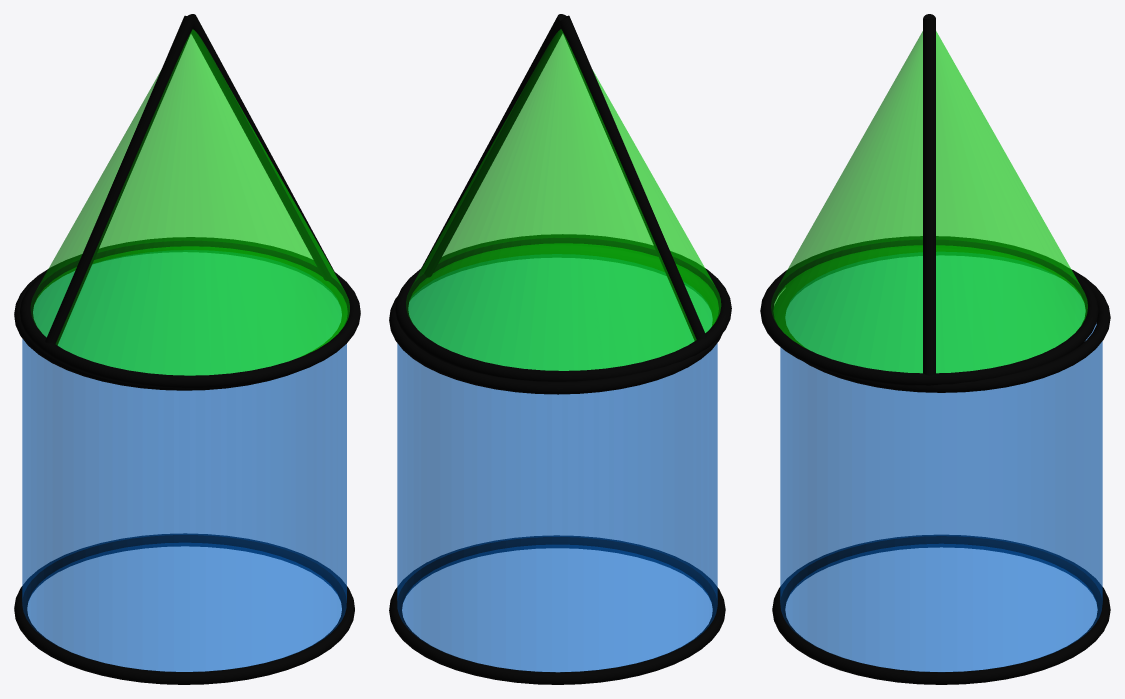
The model's file is coneoncylinder.fbx.
The picture shows the model from 3 angles, left to right: view 1: azimuth 30°, elevation 25°; view 2: azimuth 150°, elevation 25°; view 3: azimuth 270°, elevation 25°; orthographic projection.
Visible parts, largest first — view 1: ReferenceCylinder, ReferenceCone, BottomRing, BaseRing, SideLine_180, SideLine_0, TopRing; view 2: ReferenceCylinder, ReferenceCone, BottomRing, BaseRing, TopRing, SideLine_180, SideLine_0; view 3: ReferenceCylinder, ReferenceCone, BottomRing, BaseRing, TopRing, SideLine_0.
Boxes of the visible parts, bbox=[...] form: ReferenceCylinder: bbox=[22, 252, 346, 671]; ReferenceCone: bbox=[31, 29, 349, 375]; BottomRing: bbox=[14, 533, 354, 684]; BaseRing: bbox=[20, 237, 360, 388]; SideLine_180: bbox=[45, 15, 193, 345]; SideLine_0: bbox=[187, 14, 335, 282]; TopRing: bbox=[14, 250, 347, 390]; ReferenceCylinder: bbox=[397, 257, 717, 672]; ReferenceCone: bbox=[406, 29, 720, 370]; BottomRing: bbox=[389, 535, 725, 684]; BaseRing: bbox=[395, 234, 731, 381]; TopRing: bbox=[389, 245, 722, 394]; SideLine_180: bbox=[560, 15, 706, 340]; SideLine_0: bbox=[420, 14, 566, 279]; ReferenceCylinder: bbox=[780, 255, 1102, 671]; ReferenceCone: bbox=[771, 31, 1087, 373]; BottomRing: bbox=[772, 535, 1110, 684]; BaseRing: bbox=[760, 236, 1098, 385]; TopRing: bbox=[773, 247, 1110, 392]; SideLine_0: bbox=[923, 19, 935, 375].
Size of the model in its own units: 210 by 410 by 217.
